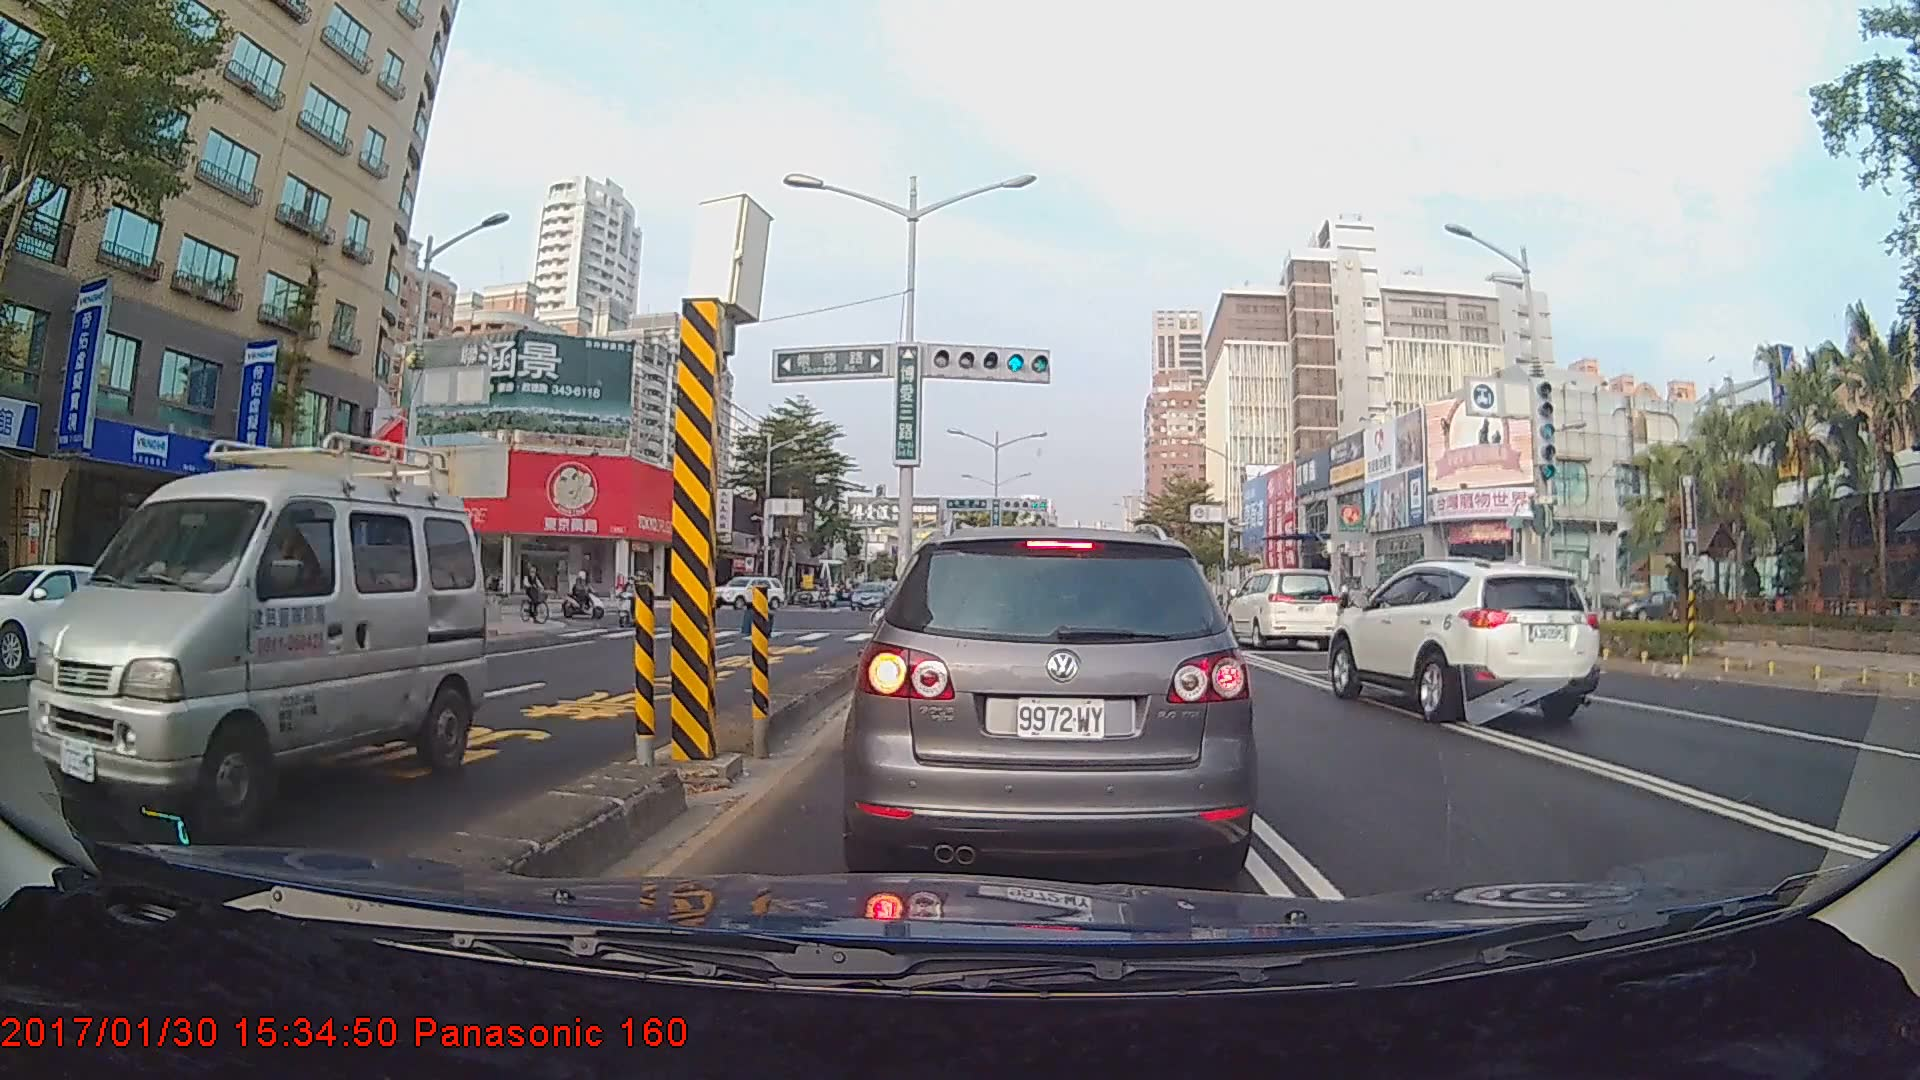rider: (562, 568, 614, 625), (518, 559, 553, 629)
vehicle: (27, 429, 489, 845), (854, 519, 1252, 882), (1326, 558, 1603, 721), (0, 561, 157, 671), (1220, 566, 1341, 652), (851, 581, 891, 612)
